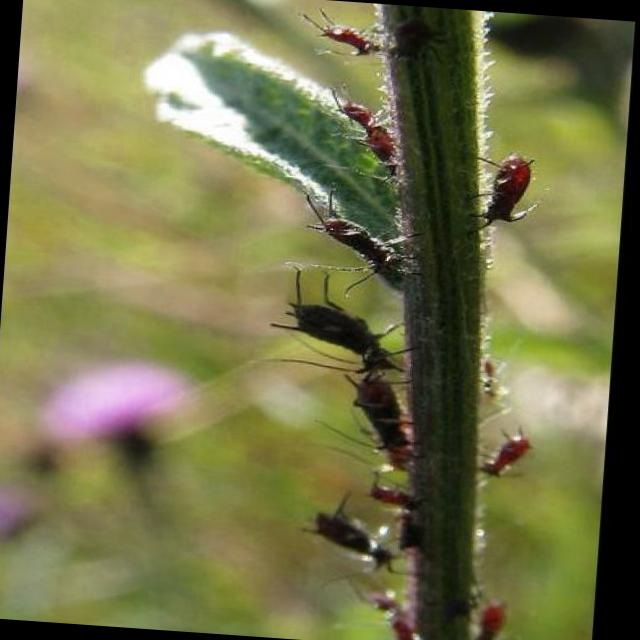aphid: (266, 269, 404, 381), (290, 184, 422, 294), (462, 344, 544, 486), (462, 130, 554, 239), (298, 486, 396, 570), (457, 574, 525, 640), (361, 586, 420, 640)
